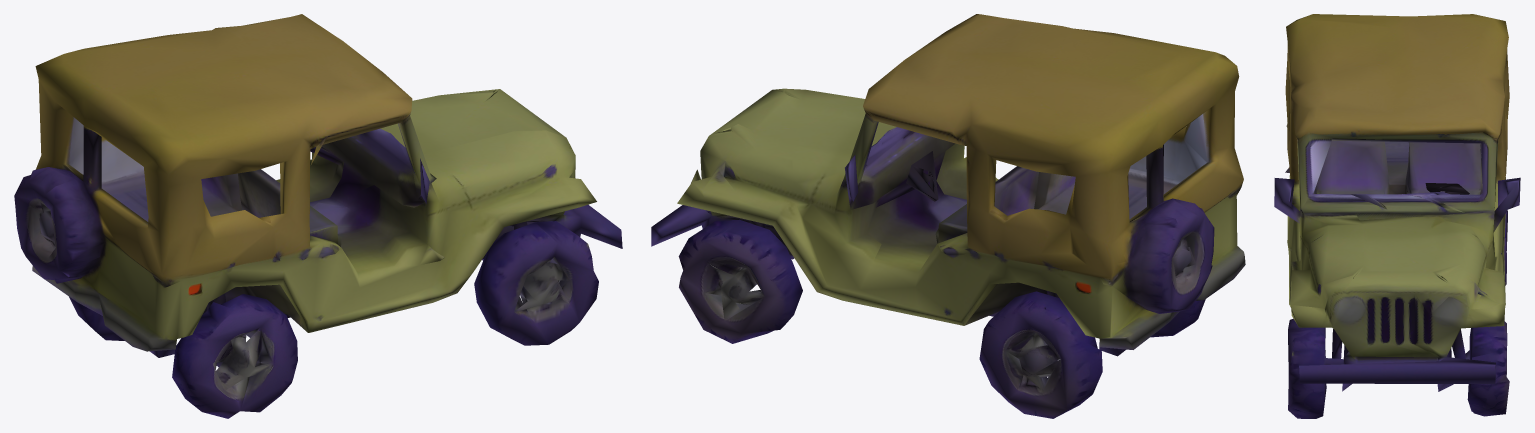
File: jeep.glb
3 views of the same model, side by side, from view 1: azimuth 30°, elevation 25°; view 2: azimuth 150°, elevation 25°; view 3: azimuth 270°, elevation 25° (orthographic). The views are drawn at different scales.
Visible parts, largest first — view 1: tripo_node_b9fb0d19-847a-4d27-ac71-8a0ab4dfb56b; view 2: tripo_node_b9fb0d19-847a-4d27-ac71-8a0ab4dfb56b; view 3: tripo_node_b9fb0d19-847a-4d27-ac71-8a0ab4dfb56b.
Boxes of the visible parts, x1=… form: tripo_node_b9fb0d19-847a-4d27-ac71-8a0ab4dfb56b: x1=14, y1=14, x2=622, y2=418; tripo_node_b9fb0d19-847a-4d27-ac71-8a0ab4dfb56b: x1=651, y1=14, x2=1245, y2=418; tripo_node_b9fb0d19-847a-4d27-ac71-8a0ab4dfb56b: x1=1274, y1=14, x2=1520, y2=418.
Bounding box in the file's own units: 1 × 0.568 × 0.5048.
1 material, 1 textured.
